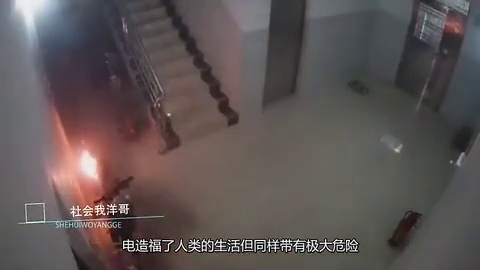fire: (75, 146, 106, 189)
